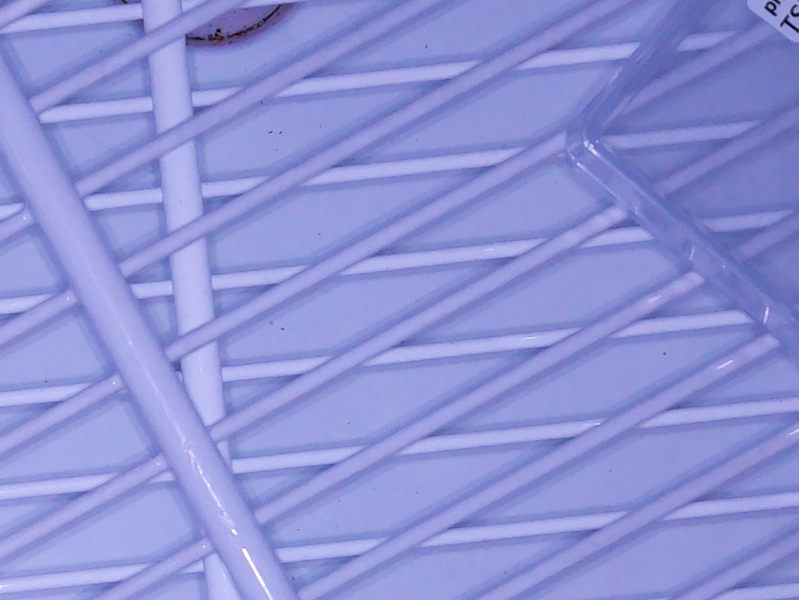plate: (561, 1, 799, 349)
